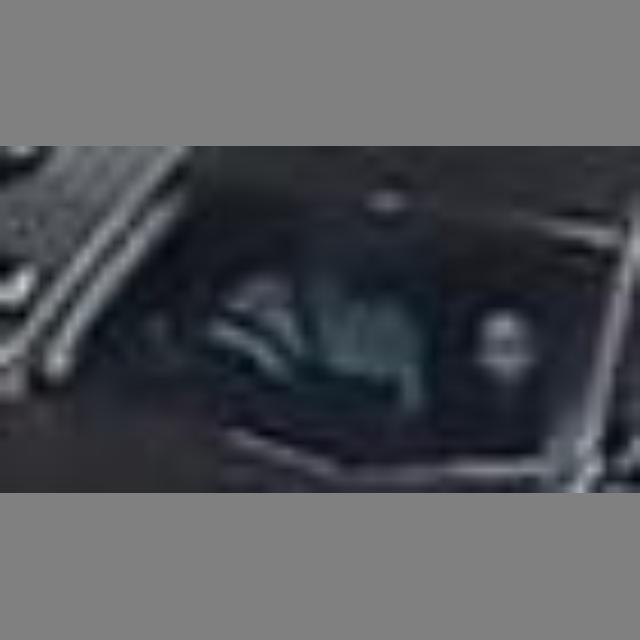pakai: (174, 228, 430, 457)
